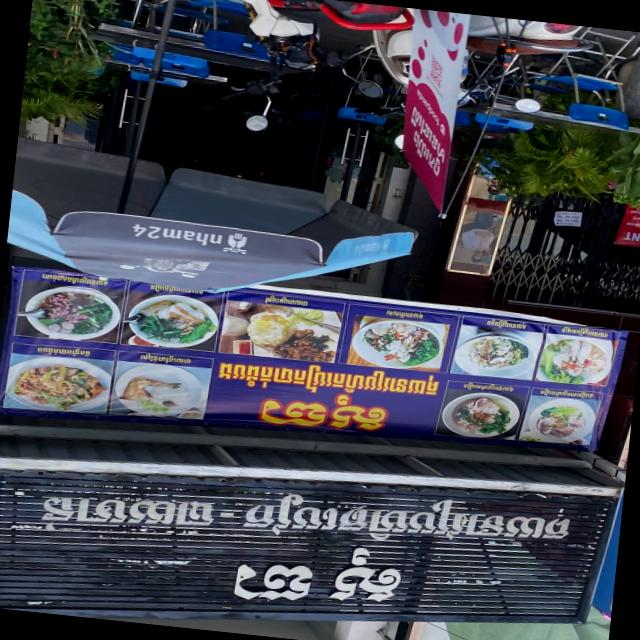1: (30, 483, 579, 545), (220, 543, 414, 608), (250, 389, 395, 437)
666: (129, 220, 163, 243)
Yolov11_80vkh: (215, 356, 443, 402)
